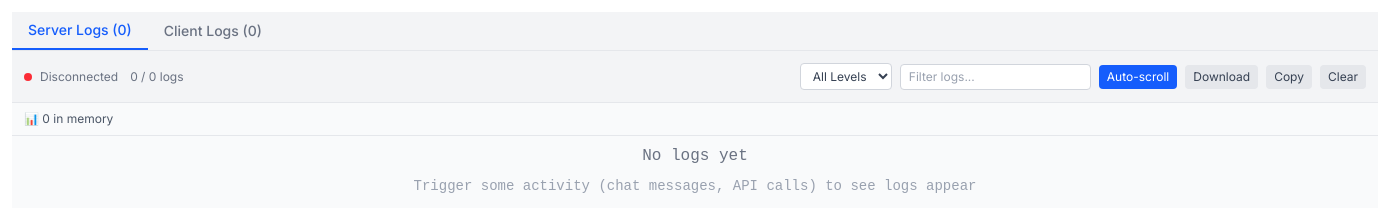
LogViewer Integration Tests › tab switching › loads client logs when switching to client tab
Click the button "Client Logs (0)": (213, 31) [148,12,278,50]
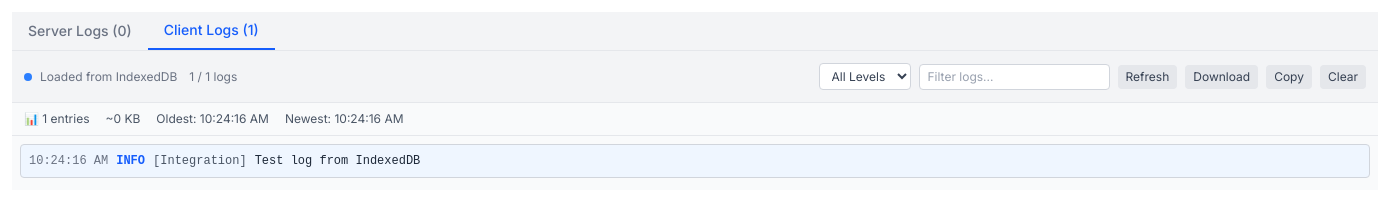
Expected: the text "Test log from IndexedDB" is shown, [255,154,420,168]
